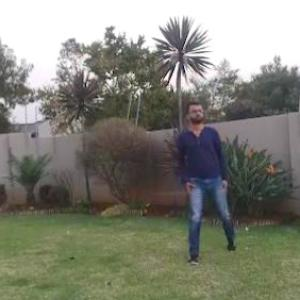follow: (175, 94, 232, 265)
